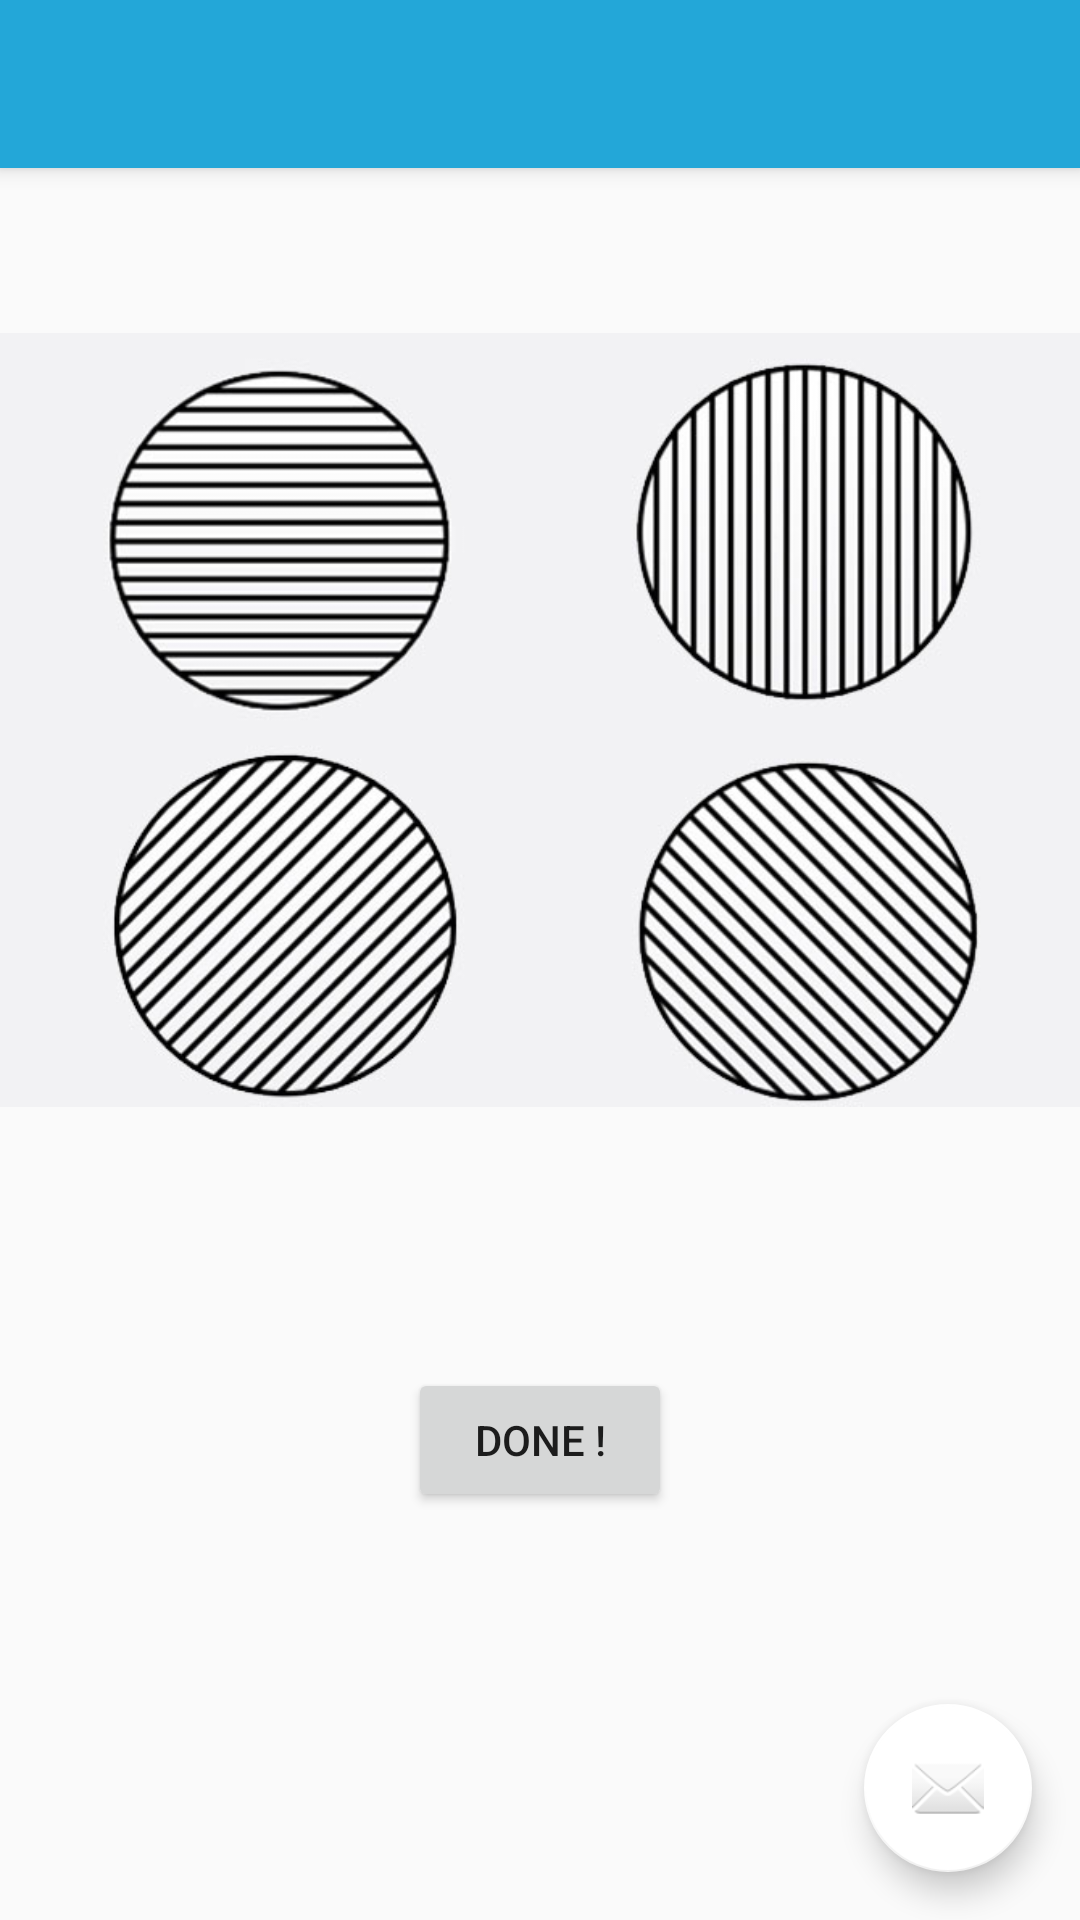

Named icons in this screenshot (1080 × 1920) and their bounding boxes, (x1, y1, x2, y2):
email: (870, 1765, 1032, 1872)
